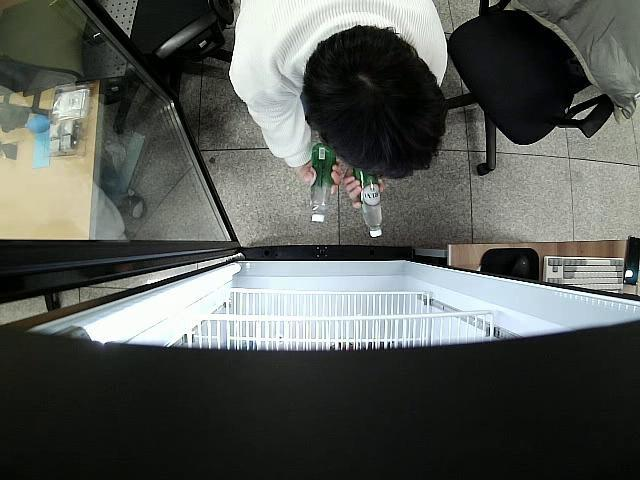18_trevi: (310, 140, 336, 223), (353, 168, 384, 237)
